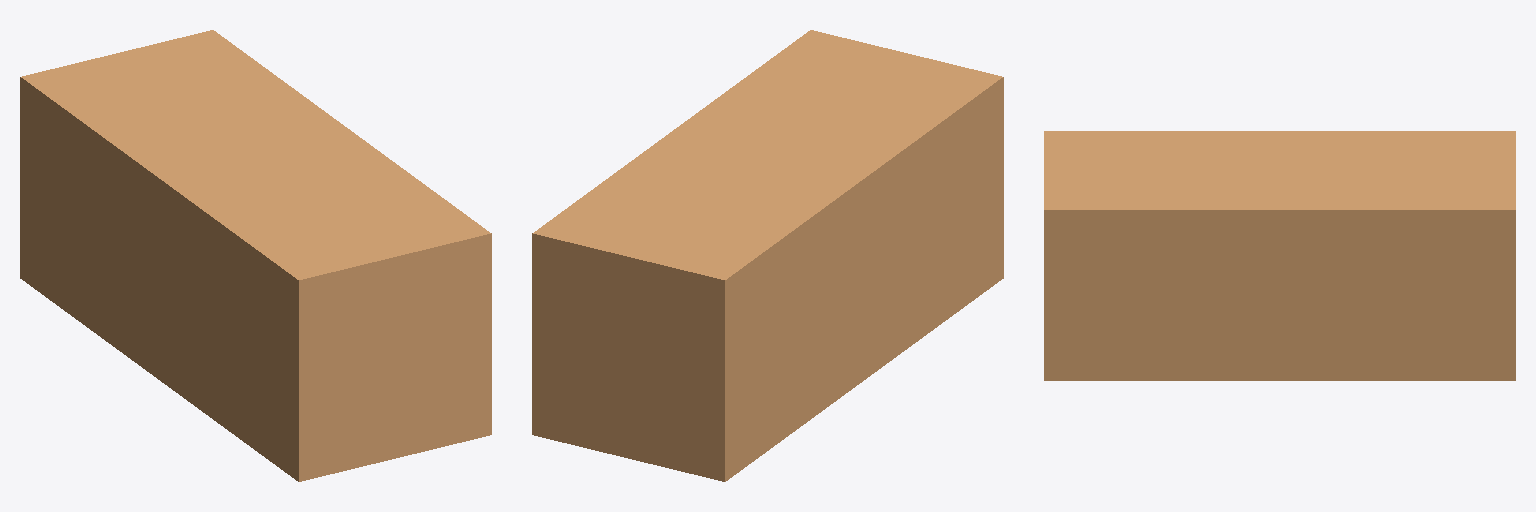
URDF robot description (arm_basis):
<?xml version="1.0"?>
<robot name="arm_basis">
  <link name="arm_basis">
    <visual>
      	<geometry>
          	<mesh filename="package://process_visualizer/resources/arm_basis2.STL"/>
      	</geometry>
	  	<material name="ABS" >
          	<color rgba="0.9 0.7 0.5 1.0" />
         </material> 	
    </visual>
    <inertial>
      <origin xyz="0 0 0" rpy="0 0 0"/>
       <mass value="1"/>
      <inertia
        ixx="1.0" ixy="0.0" ixz="0.0"
        iyy="1.0" iyz="0.0"
        izz="1.0"/>
    </inertial>
  </link>

  <link name="world"/>

  <joint name="fixed" type="fixed">
    <parent link="world"/>
    <child link="arm_basis"/>
  </joint>

</robot>

--- Facts derived from the render (not from the file) ---
The picture shows the robot from 3 angles, left to right: view 1: azimuth 30°, elevation 25°; view 2: azimuth 150°, elevation 25°; view 3: azimuth 270°, elevation 25°; orthographic projection.
Model arm_basis with 2 links and 1 joints (1 fixed), rooted at world, posed every joint at zero.
Links seen in each view (by area): view 1: arm_basis; view 2: arm_basis; view 3: arm_basis.
Link boxes in pixels (x1=…): arm_basis: x1=20, y1=30, x2=491, y2=481; arm_basis: x1=532, y1=30, x2=1003, y2=481; arm_basis: x1=1044, y1=131, x2=1515, y2=380.
Bounding box of the posed robot: 0.2 × 0.5 × 0.2 m (x, y, z).
Meshes: 1 distinct files referenced, 1 mesh visuals loaded (1 binary STL).